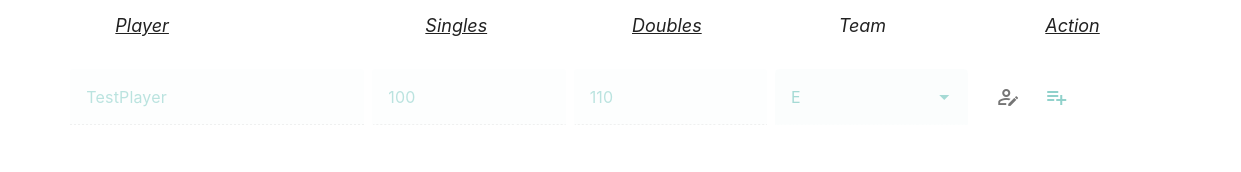
TablePlayers.vue › remove from simulator › shows addToSimulatorIcon when clicking on removeFromSimulator
Click the button with id "tablePlayersAddToSimulator" at {"x": 1056, "y": 97}, box [1032, 73, 1080, 121]
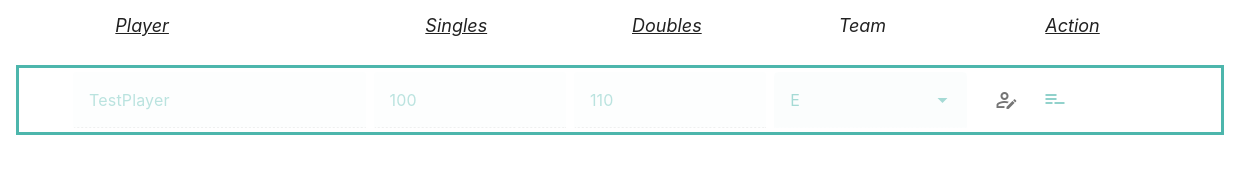
Click the button with id "tablePlayersRemoveFromSimulator" at {"x": 1055, "y": 100}, box [1031, 76, 1079, 124]
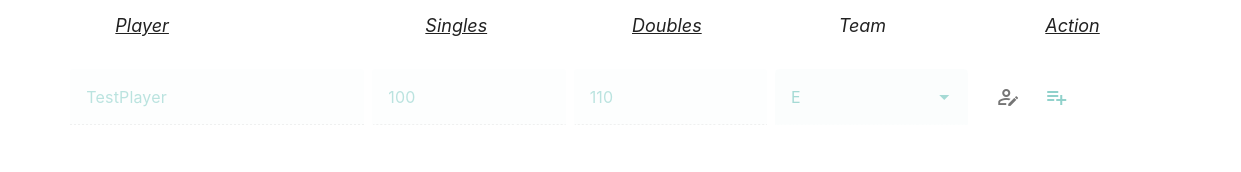
Check: the button with id "tablePlayersAddToSimulator" is shown, box [1032, 73, 1080, 121]
